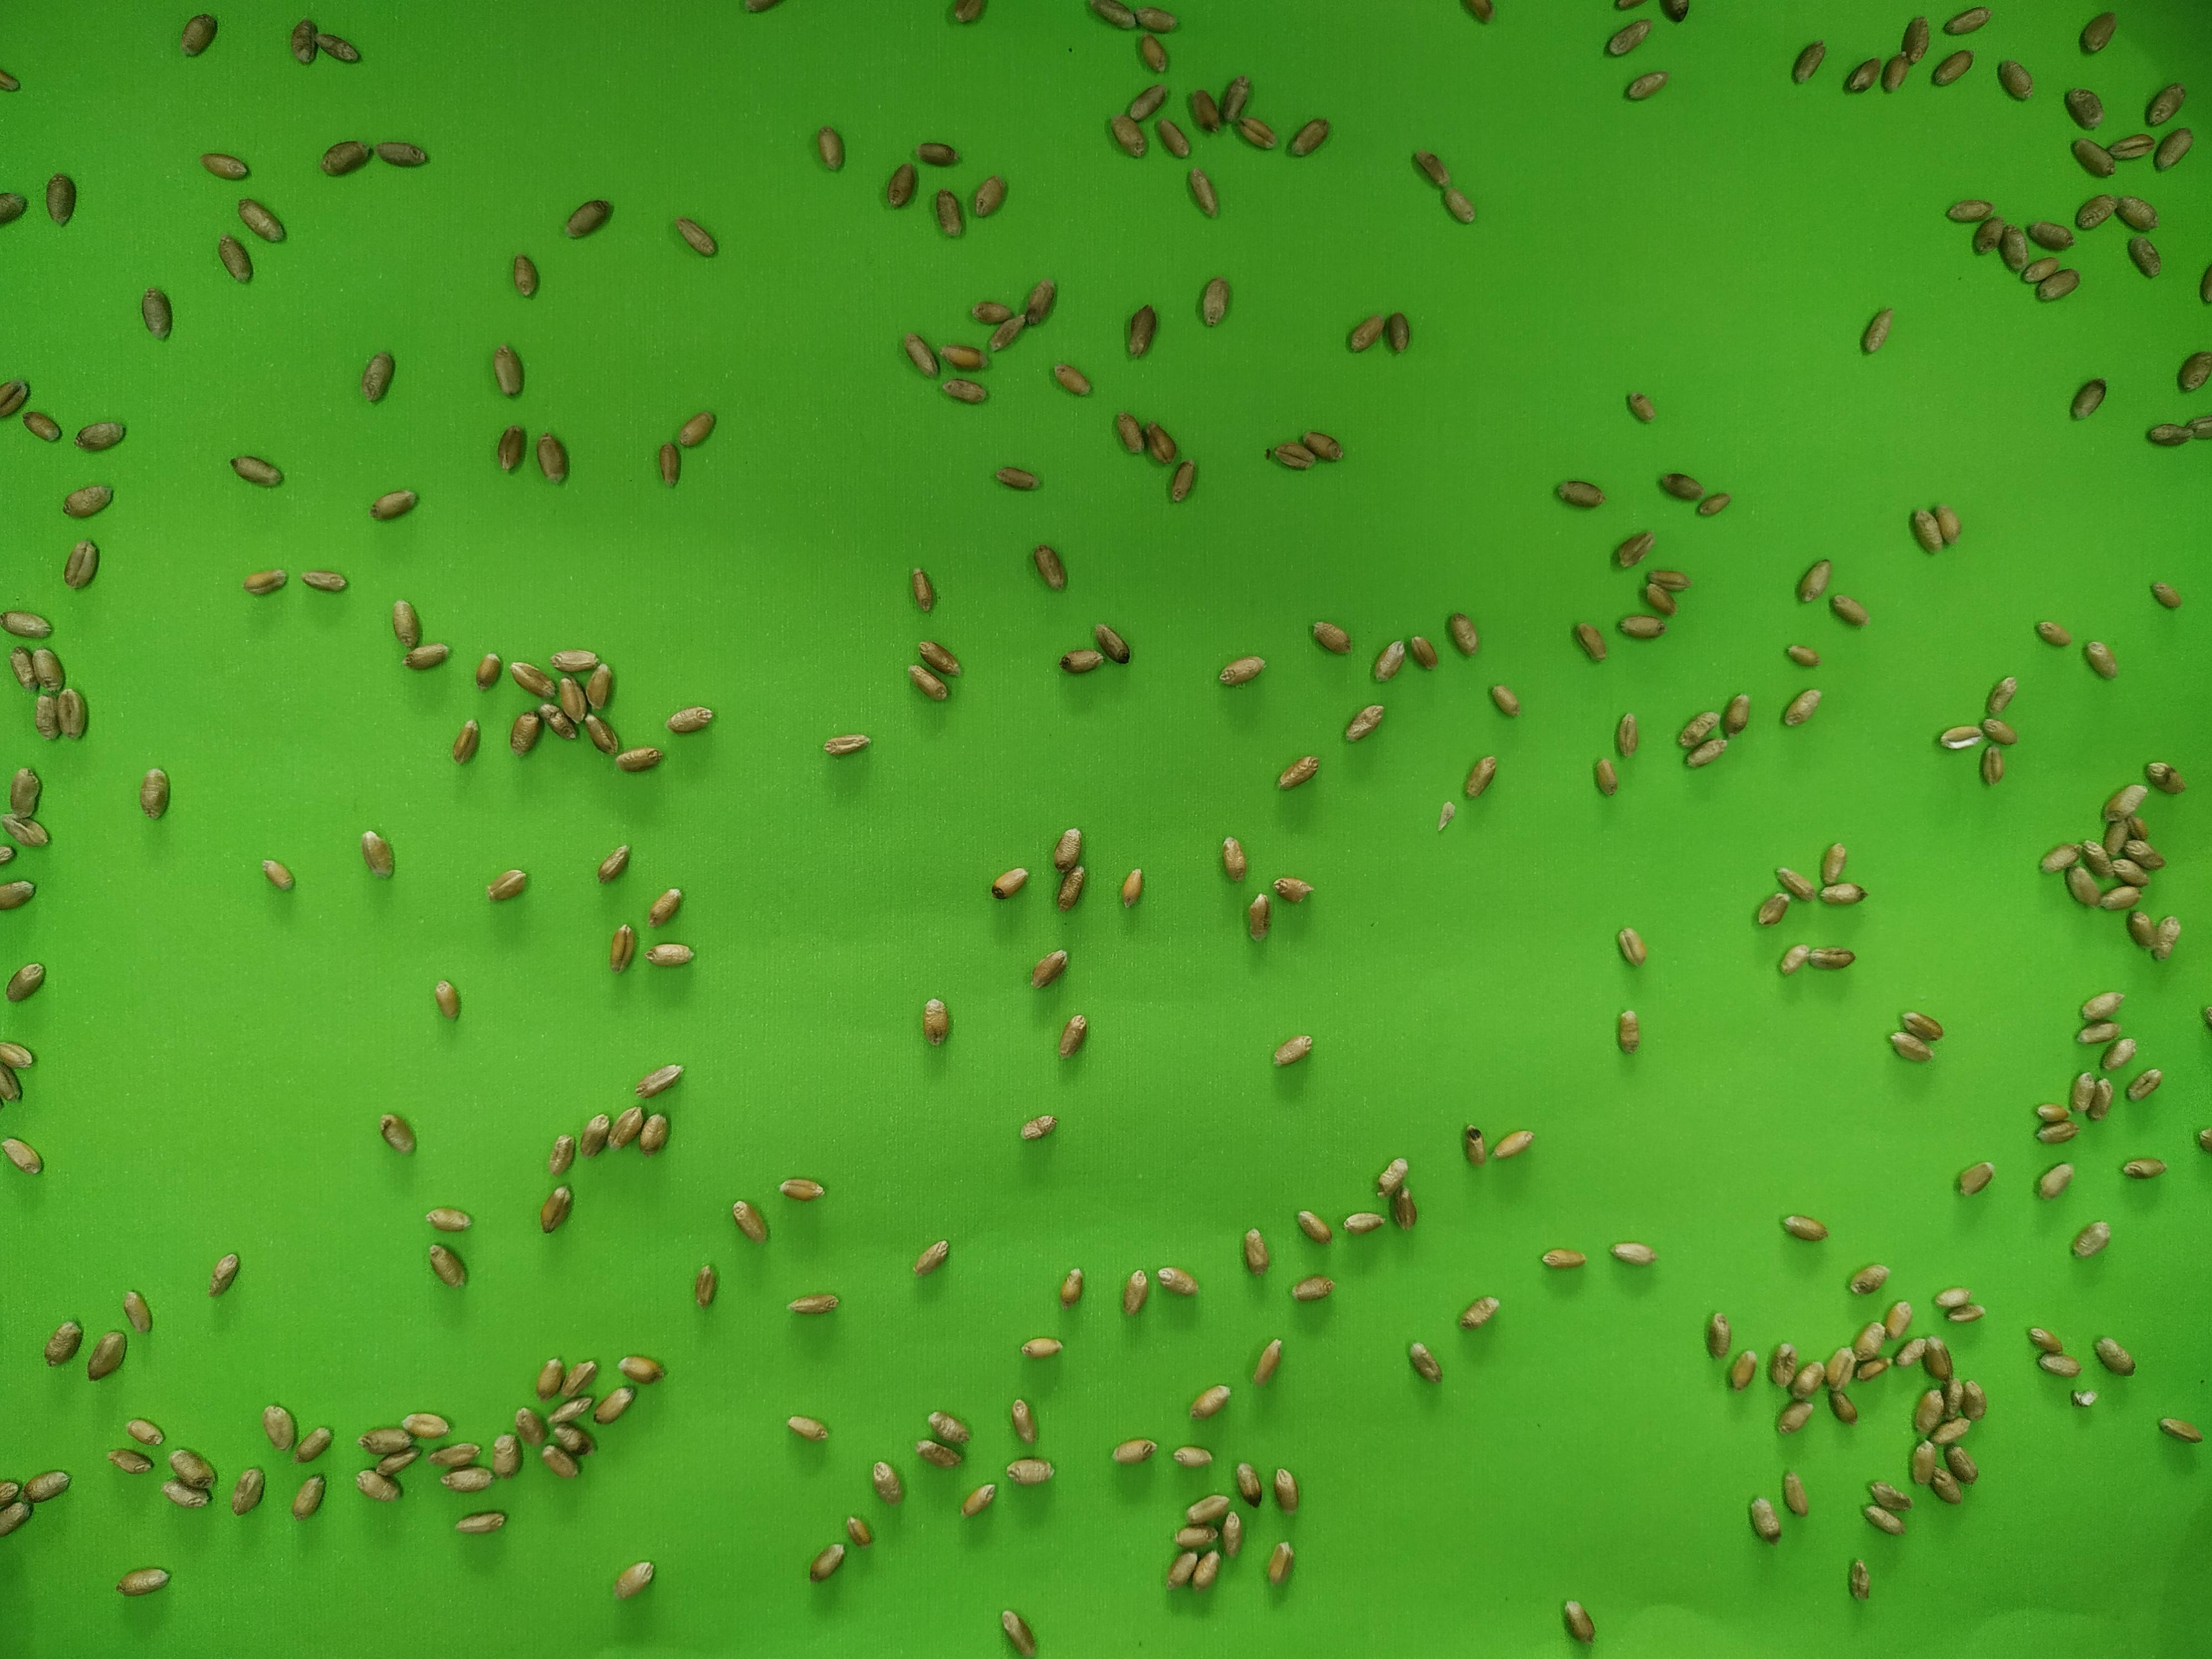bueno: (232, 192, 289, 246), (138, 282, 178, 340), (580, 659, 622, 709), (907, 1237, 958, 1279), (916, 992, 953, 1049), (491, 342, 528, 399), (1858, 305, 1898, 356), (113, 1567, 174, 1600), (491, 420, 529, 472), (136, 760, 171, 817), (362, 347, 397, 404), (1054, 859, 1089, 917), (536, 429, 571, 486), (160, 1474, 214, 1511), (181, 7, 218, 61), (2097, 779, 2142, 823), (2144, 78, 2188, 124), (897, 329, 941, 375), (374, 1112, 418, 1157), (1289, 112, 1332, 157), (509, 1403, 550, 1450), (1770, 1392, 1818, 1432), (1794, 554, 1834, 603), (1569, 617, 1609, 666), (44, 1316, 84, 1364), (1108, 110, 1148, 159), (226, 451, 282, 486), (650, 434, 685, 490), (1681, 732, 1731, 770), (258, 1401, 296, 1452), (395, 1408, 448, 1445), (164, 1448, 216, 1485), (1151, 1263, 1204, 1300), (1049, 823, 1085, 875), (672, 218, 725, 254), (932, 373, 993, 404), (45, 167, 78, 225), (1843, 52, 1886, 96), (2060, 85, 2104, 129), (674, 408, 719, 450), (1789, 40, 1829, 87), (77, 415, 124, 455), (1141, 422, 1181, 469), (2090, 1335, 2137, 1375), (540, 1180, 575, 1234), (118, 1284, 153, 1338), (1214, 1509, 1252, 1558), (810, 124, 848, 173), (206, 1248, 244, 1297), (590, 1385, 639, 1424), (1184, 85, 1223, 134), (9, 758, 40, 817), (1183, 164, 1219, 214), (2080, 1073, 2116, 1124), (284, 14, 320, 64), (1273, 753, 1324, 789), (1005, 1453, 1055, 1490), (883, 160, 920, 211), (904, 561, 937, 617), (932, 185, 965, 240), (1879, 47, 1914, 99), (317, 138, 369, 173), (1968, 213, 2012, 254), (869, 1457, 904, 1509), (632, 1110, 674, 1154), (728, 1199, 772, 1241), (1029, 946, 1071, 990), (509, 706, 543, 758), (2078, 7, 2118, 52), (914, 636, 960, 676), (1407, 148, 1453, 188), (906, 662, 951, 702), (968, 173, 1008, 218), (1216, 73, 1254, 120), (1982, 673, 2020, 720), (2069, 375, 2107, 422), (1238, 1222, 1270, 1279), (1031, 542, 1069, 589), (1021, 277, 1059, 324), (1235, 113, 1282, 152), (2113, 195, 2160, 234), (1308, 617, 1355, 655), (1125, 303, 1158, 357), (388, 592, 421, 647), (507, 249, 540, 303), (2071, 139, 2120, 176), (2034, 265, 2083, 301), (216, 232, 253, 281), (1998, 223, 2033, 274), (1385, 1183, 1420, 1234), (232, 1464, 266, 1514), (1217, 652, 1268, 687), (1216, 833, 1251, 884), (2062, 864, 2104, 906), (1933, 45, 1975, 87), (1773, 864, 1817, 904), (1778, 687, 1822, 727), (3, 960, 44, 1004), (956, 1481, 1000, 1521), (2121, 1065, 2165, 1105), (1367, 638, 1406, 683), (1817, 1349, 1855, 1394), (561, 1354, 599, 1399), (1341, 702, 1386, 741), (1996, 58, 2034, 103), (19, 406, 64, 444), (437, 1462, 489, 1495), (775, 1173, 827, 1206), (1719, 688, 1752, 741), (1118, 1267, 1151, 1319), (1270, 1462, 1303, 1514), (909, 138, 961, 171), (613, 1351, 665, 1384), (1057, 643, 1104, 680), (357, 828, 394, 875), (1345, 314, 1392, 350), (1912, 1385, 1949, 1432), (1271, 1030, 1318, 1066), (1266, 1534, 1296, 1591), (606, 917, 636, 974), (1463, 753, 1498, 802), (2066, 1068, 2101, 1117), (564, 200, 613, 235), (448, 718, 482, 767), (664, 702, 712, 737), (63, 483, 111, 518), (1453, 1297, 1501, 1331), (1446, 606, 1480, 655), (1287, 1270, 1336, 1305), (354, 1424, 408, 1455), (1900, 10, 1932, 64), (2118, 1152, 2172, 1183), (1242, 890, 1273, 945), (2155, 125, 2196, 166), (2080, 636, 2120, 678), (1752, 887, 1792, 929), (613, 1560, 655, 1600), (1155, 118, 1197, 159), (1909, 504, 1942, 554), (21, 1467, 71, 1500), (1181, 1493, 1231, 1527), (293, 1469, 326, 1520), (1230, 1457, 1263, 1507), (1296, 429, 1346, 462), (369, 488, 420, 521), (428, 1243, 467, 1286), (2, 1136, 45, 1175), (1379, 310, 1418, 354), (1188, 1384, 1231, 1422), (1851, 1316, 1890, 1359), (1782, 638, 1827, 674), (1188, 1544, 1224, 1589), (925, 1408, 970, 1445), (1440, 183, 1477, 228), (2127, 234, 2163, 279), (2029, 1162, 2074, 1199), (988, 863, 1033, 899), (1952, 1159, 1998, 1195), (197, 150, 253, 179), (1200, 274, 1230, 329), (2073, 1012, 2120, 1047), (1264, 436, 1312, 471), (1172, 1520, 1224, 1551), (56, 694, 91, 741), (2031, 1349, 2083, 1380), (1613, 924, 1648, 971), (531, 1354, 566, 1401), (68, 535, 99, 587), (1130, 2, 1177, 37), (1907, 1434, 1939, 1486), (1268, 871, 1315, 906), (1703, 1309, 1735, 1361), (2155, 915, 2186, 967), (1747, 1493, 1780, 1542), (1611, 1006, 1644, 1054), (1898, 1009, 1947, 1042), (1778, 1211, 1827, 1244), (549, 1422, 597, 1455), (1601, 21, 1649, 54), (644, 885, 685, 925), (594, 845, 634, 885), (2144, 756, 2184, 796), (1294, 1206, 1334, 1246), (1939, 1443, 1980, 1481), (1613, 708, 1641, 765), (1878, 1300, 1916, 1342), (1374, 1157, 1413, 1199), (1092, 626, 1134, 664), (2069, 1220, 2111, 1258), (1940, 195, 1998, 223), (1106, 1436, 1160, 1466), (611, 1103, 648, 1147), (28, 647, 64, 690), (2120, 833, 2163, 870), (2160, 1413, 2203, 1450), (1611, 532, 1655, 568), (1406, 1342, 1442, 1385), (1050, 361, 1094, 397), (1007, 1398, 1038, 1448), (1925, 1337, 1956, 1387), (1252, 1337, 1284, 1387), (935, 340, 986, 371), (1487, 1129, 1538, 1161), (453, 1507, 503, 1539), (1562, 1596, 1594, 1647), (2024, 220, 2074, 251), (421, 1202, 472, 1234), (2177, 350, 2212, 396), (536, 1445, 582, 1480), (2071, 195, 2116, 230), (1844, 1260, 1890, 1295), (428, 976, 463, 1021), (2094, 1039, 2139, 1073), (1113, 410, 1148, 455), (484, 866, 529, 901), (2036, 842, 2083, 875), (636, 1060, 683, 1093), (1886, 1030, 1933, 1063), (1588, 753, 1622, 800), (0, 608, 47, 641), (578, 1110, 611, 1157), (1019, 1331, 1066, 1364), (784, 1412, 831, 1445), (1533, 1246, 1588, 1274), (1768, 1337, 1797, 1389), (1606, 1237, 1658, 1267), (0, 873, 40, 911), (1973, 714, 2022, 746), (1862, 1500, 1904, 1537), (1778, 1471, 1810, 1520), (474, 647, 505, 695), (545, 1129, 577, 1178), (404, 640, 453, 671), (1864, 1480, 1912, 1511), (1057, 1262, 1089, 1310), (507, 659, 550, 694), (1003, 1614, 1038, 1657), (355, 1467, 399, 1502), (1933, 720, 1977, 755), (89, 1333, 124, 1377), (1726, 1347, 1761, 1391), (1829, 592, 1872, 627), (1127, 84, 1170, 118), (425, 1443, 479, 1471), (784, 1290, 838, 1317), (1059, 1007, 1087, 1061), (30, 695, 63, 741), (1136, 30, 1169, 75), (1817, 840, 1850, 885), (1770, 943, 1820, 972), (989, 464, 1040, 493), (239, 565, 289, 594), (690, 1260, 719, 1310), (1554, 477, 1604, 507), (1616, 610, 1667, 640), (1843, 1554, 1874, 1601), (911, 1439, 958, 1471), (1015, 1112, 1062, 1143), (120, 1413, 167, 1445), (1169, 1439, 1216, 1471), (1165, 1549, 1200, 1591), (374, 139, 427, 167), (641, 939, 693, 967), (1406, 631, 1440, 673), (1085, 0, 1134, 30), (1656, 472, 1705, 502), (1979, 741, 2008, 789), (0, 1495, 33, 1539), (1958, 1378, 1991, 1422), (488, 1432, 521, 1476), (2111, 131, 2156, 162), (1458, 1126, 1489, 1171), (5, 643, 37, 688), (806, 1547, 852, 1579), (819, 730, 873, 756), (1801, 945, 1855, 971), (101, 1448, 155, 1474), (961, 298, 1012, 326), (260, 856, 298, 892), (1486, 681, 1522, 720), (984, 314, 1024, 349), (2081, 836, 2116, 877), (554, 674, 589, 714), (5, 819, 52, 849), (2095, 882, 2142, 911), (617, 742, 664, 772), (1641, 582, 1683, 615), (2101, 810, 2132, 854), (1676, 713, 1719, 744), (1116, 866, 1148, 910), (1623, 68, 1667, 99), (843, 1509, 874, 1553), (2142, 420, 2191, 448), (2076, 992, 2125, 1019), (1933, 502, 1963, 547), (1946, 7, 1991, 37), (1622, 389, 1656, 427), (580, 716, 618, 751), (0, 1037, 35, 1075), (1825, 1387, 1860, 1425), (2017, 253, 2057, 286), (2149, 575, 2182, 615), (1932, 1412, 1972, 1445), (1932, 1466, 1965, 1506), (300, 566, 350, 592), (1817, 880, 1871, 904), (1339, 1209, 1386, 1237), (1850, 1354, 1892, 1385), (315, 35, 362, 63), (550, 645, 597, 673), (2036, 1117, 2080, 1147), (296, 1429, 333, 1464), (0, 376, 28, 422), (542, 706, 582, 737), (2031, 619, 2071, 650), (1167, 464, 1202, 498), (1791, 1358, 1818, 1401), (2125, 906, 2153, 950), (1693, 488, 1733, 518), (946, 0, 991, 26), (1946, 1295, 1991, 1321), (378, 1446, 420, 1474), (1935, 1283, 1977, 1310), (1454, 0, 1501, 24), (1648, 566, 1691, 592), (1897, 1331, 1930, 1364), (2027, 1324, 2062, 1356), (2031, 1100, 2078, 1122), (550, 1398, 594, 1422), (2113, 859, 2153, 885), (1655, 0, 1695, 24)
impureza: (1433, 798, 1460, 835), (2071, 1387, 2101, 1412)
